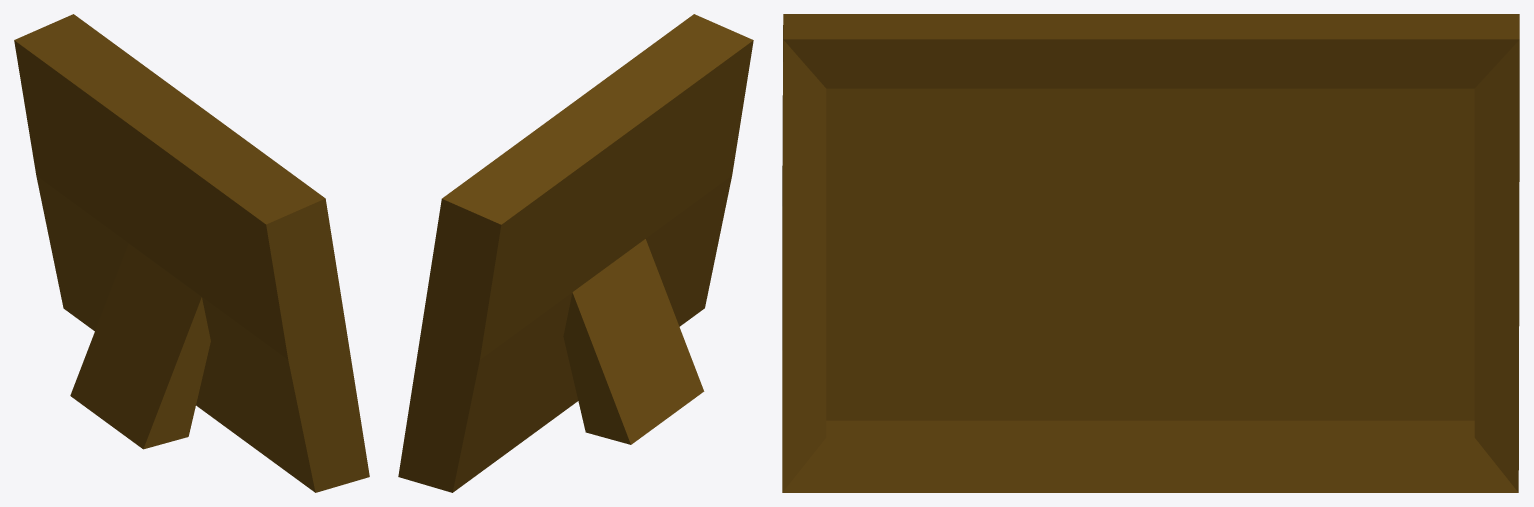
Rendered from pictureframetable02.gltf.
3 views of the same model, side by side, from view 1: azimuth 30°, elevation 25°; view 2: azimuth 150°, elevation 25°; view 3: azimuth 270°, elevation 25° (orthographic). The views are drawn at different scales.
Parts seen in each view (by area): view 1: Cube; view 2: Cube; view 3: Cube.
Part boxes in pixels (x1,y1,x2,y2): Cube: [14, 14, 369, 492]; Cube: [398, 14, 753, 492]; Cube: [782, 14, 1519, 492].
Size of the model in its own units: 0.0506 by 0.1006 by 0.1578.
Materials: 1 (1 with a texture image).
